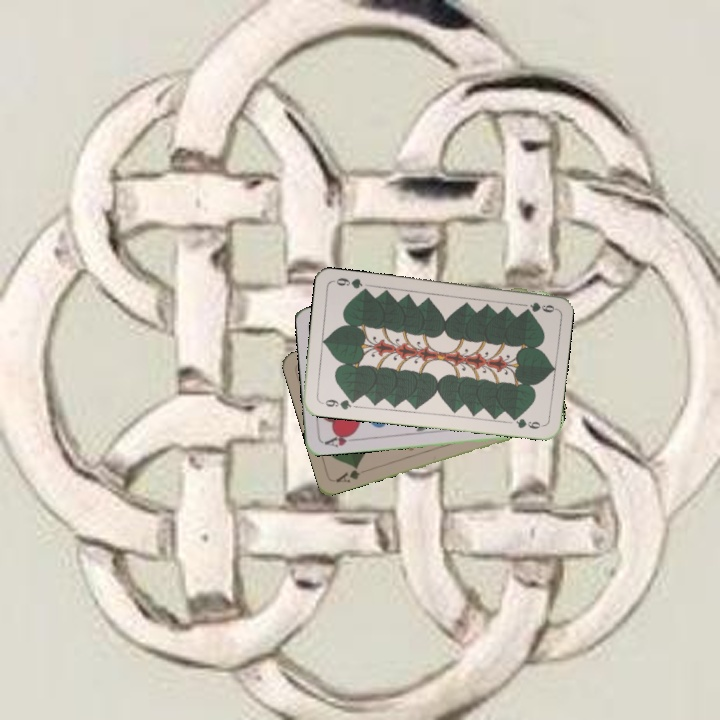G9: (317, 395, 358, 412), (522, 298, 557, 315)
GA: (332, 462, 363, 485)
HA: (320, 428, 360, 449)
